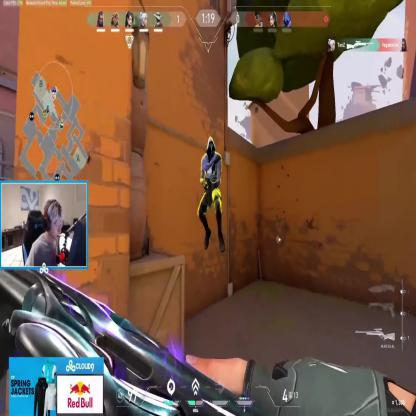enemy: (197, 135, 226, 254)
enemy_head: (206, 136, 216, 158)
